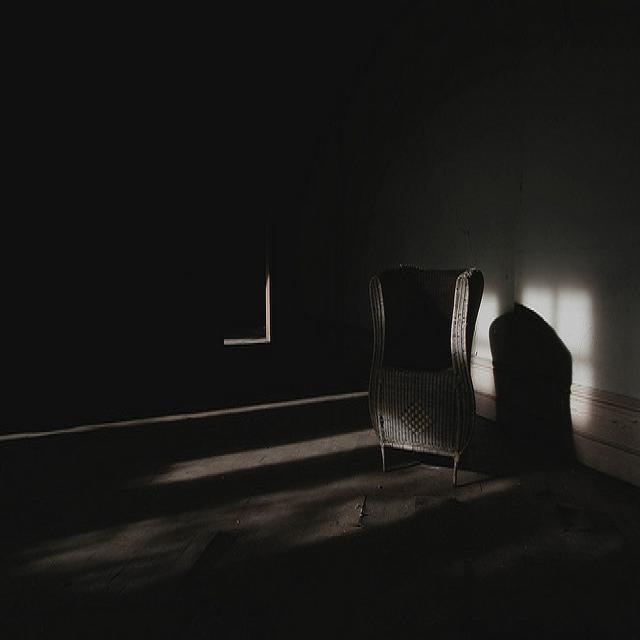chair: (358, 266, 493, 527)
